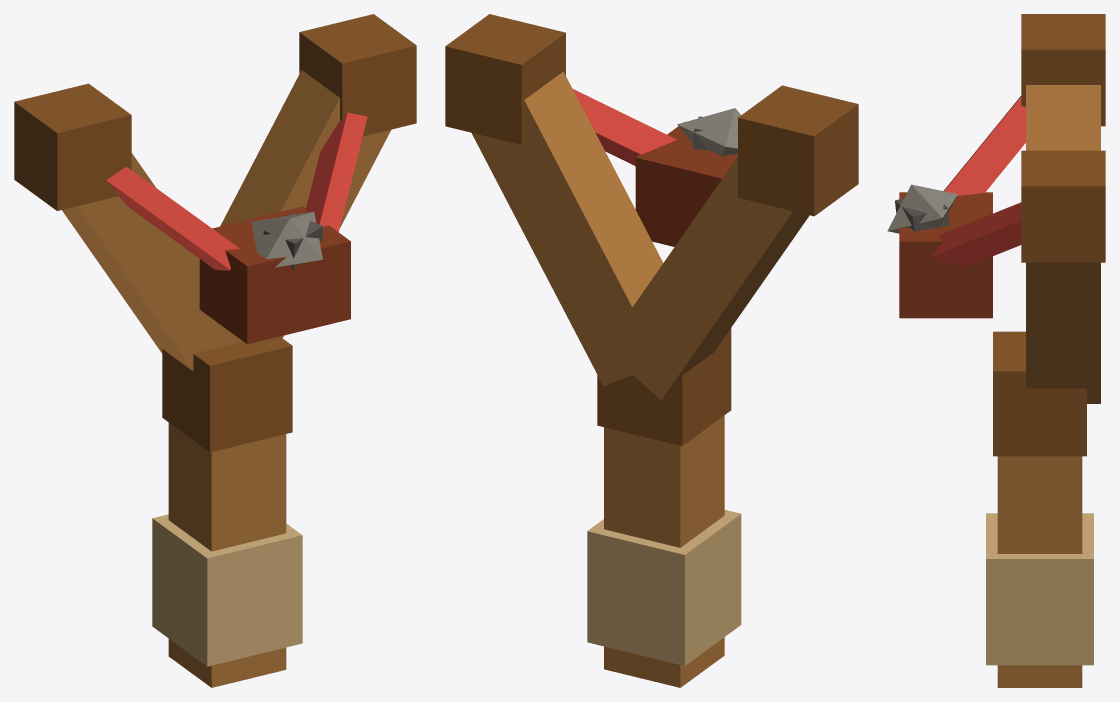
Rendered from pebble-sling.glb.
3 views of the same model, side by side, from view 1: azimuth 30°, elevation 25°; view 2: azimuth 150°, elevation 25°; view 3: azimuth 270°, elevation 25° (orthographic). The views are drawn at different scales.
Parts seen in each view (by area): view 1: grip-wrap, handle, pouch, arm-l, fork-stem, tip-l, arm-r, tip-r, band-l, band-r, pebble-a; view 2: arm-r, arm-l, grip-wrap, handle, tip-l, tip-r, fork-stem, pouch, band-r, pebble-a; view 3: grip-wrap, handle, arm-r, tip-r, fork-stem, pouch, tip-l, arm-l, band-r, band-l, pebble-a, pebble-b.
Part boxes in pixels (<box>): grip-wrap: <box>152,514,302,666</box>; handle: <box>168,422,286,687</box>; pouch: <box>199,206,350,344</box>; arm-l: <box>62,153,220,370</box>; fork-stem: <box>162,336,292,452</box>; tip-l: <box>14,83,131,210</box>; arm-r: <box>211,70,390,348</box>; tip-r: <box>299,14,416,136</box>; band-l: <box>106,166,239,270</box>; band-r: <box>306,112,367,231</box>; pebble-a: <box>251,211,322,267</box>; arm-r: <box>471,71,662,386</box>; arm-l: <box>603,157,809,400</box>; grip-wrap: <box>587,510,741,665</box>; handle: <box>604,415,724,687</box>; tip-l: <box>738,85,858,216</box>; tip-r: <box>445,14,565,144</box>; fork-stem: <box>597,328,731,445</box>; pouch: <box>635,122,737,246</box>; band-r: <box>573,89,676,165</box>; pebble-a: <box>677,108,740,155</box>; grip-wrap: <box>986,513,1093,665</box>; handle: <box>997,456,1082,687</box>; arm-r: <box>1026,262,1100,403</box>; tip-r: <box>1021,150,1105,262</box>; fork-stem: <box>993,331,1086,456</box>; pouch: <box>899,192,992,318</box>; tip-l: <box>1021,14,1105,126</box>; arm-l: <box>1026,85,1100,150</box>; band-r: <box>931,202,1021,268</box>; band-l: <box>943,96,1025,195</box>; pebble-a: <box>887,184,957,233</box>; pebble-b: <box>895,198,949,231</box>.
Size of the model in its own units: 0.1738 by 0.2682 by 0.0931.
